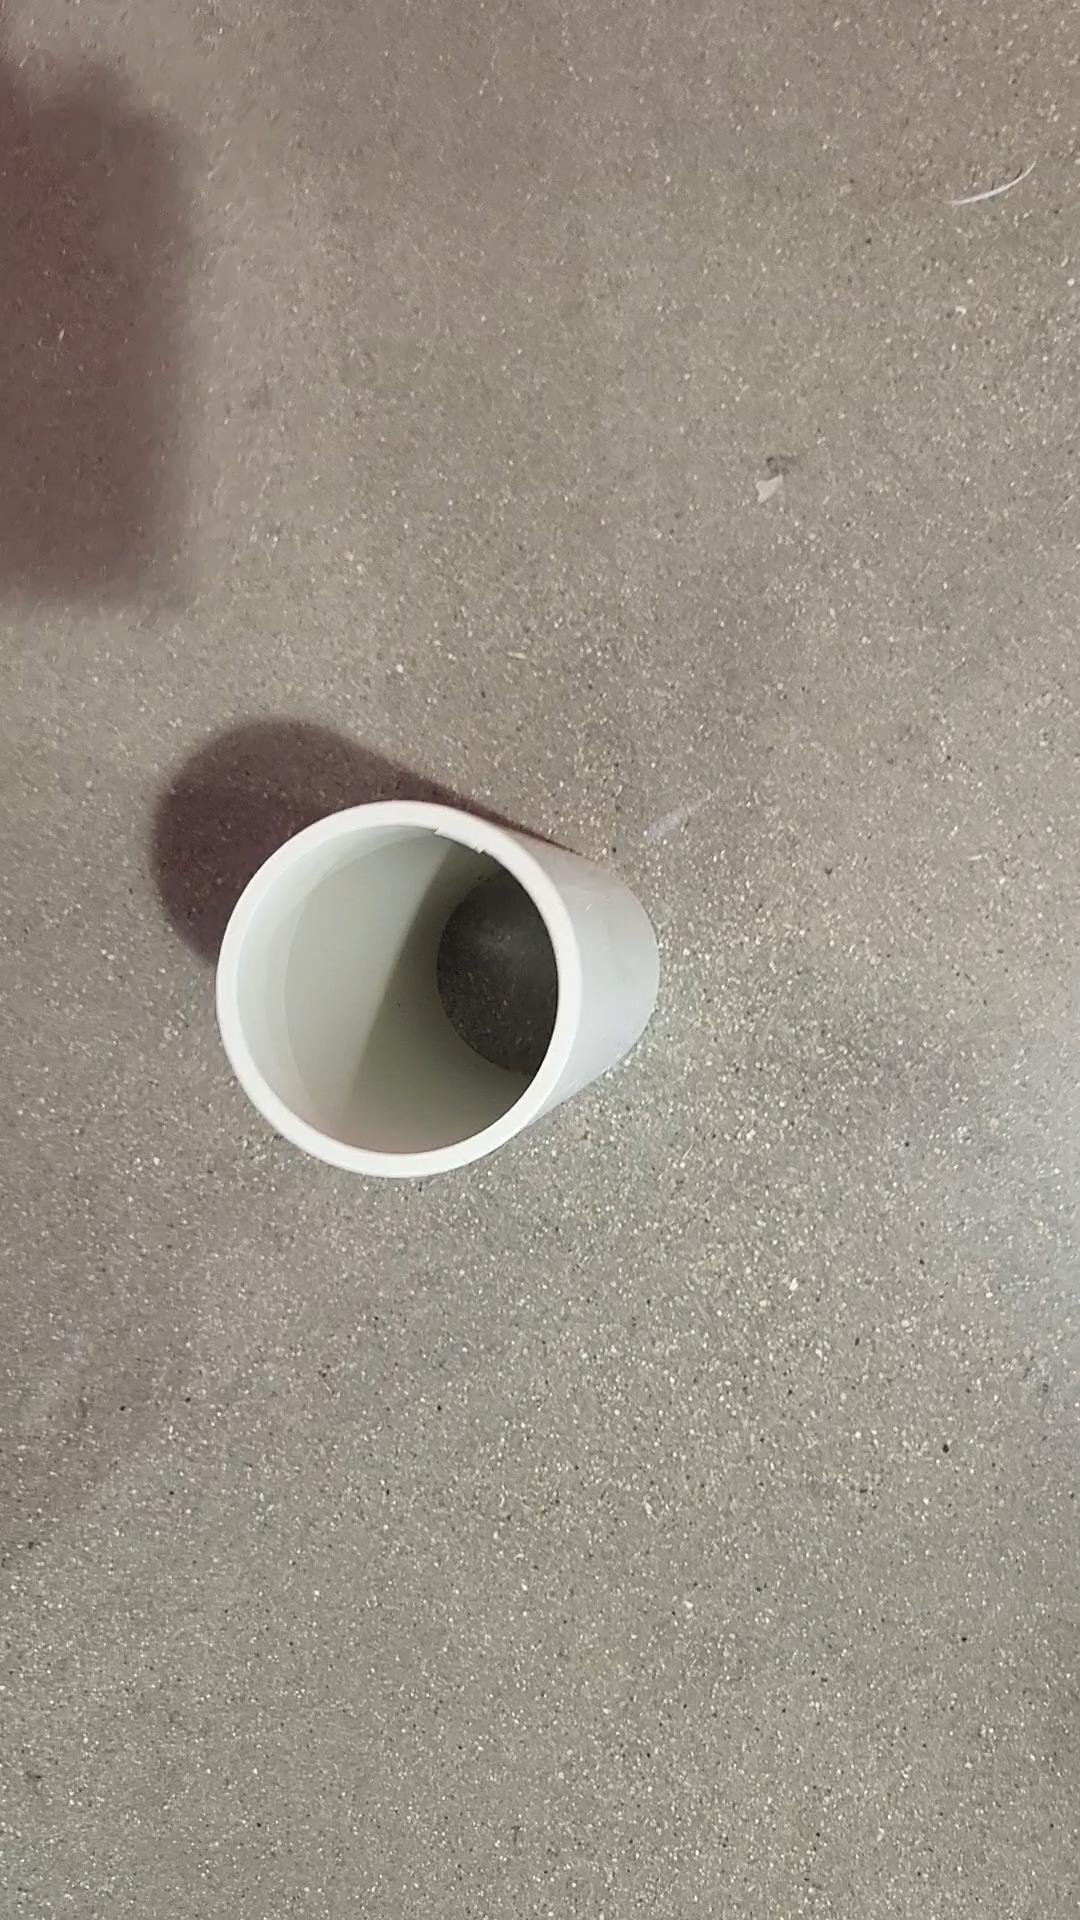coral: (210, 791, 674, 1187)
